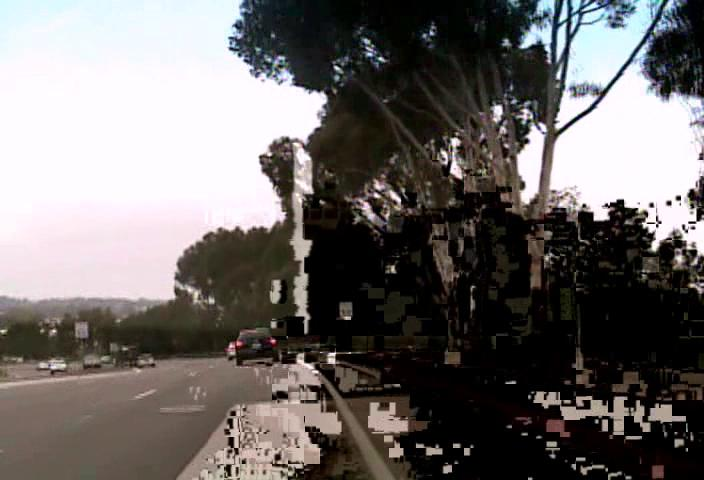speedLimitUrdbl: (74, 320, 88, 338)
